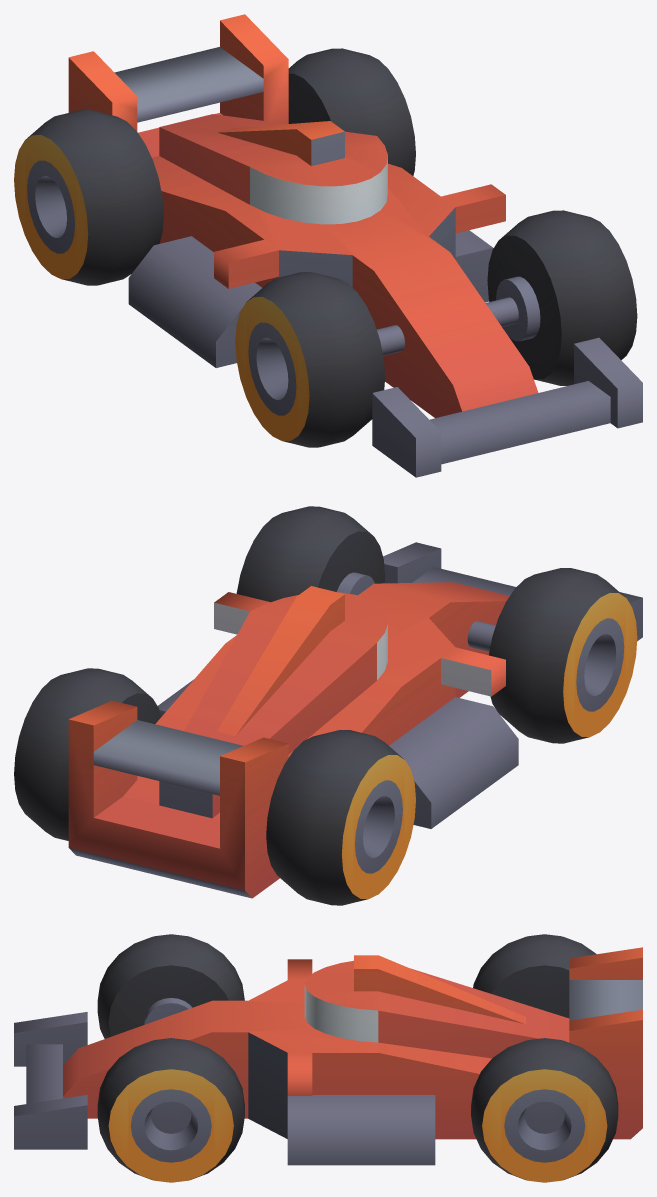
File: race.glb
3 views of the same model, one above another, from view 1: azimuth 30°, elevation 25°; view 2: azimuth 150°, elevation 25°; view 3: azimuth 270°, elevation 25° (orthographic). The views are drawn at different scales.
Parts seen in each view (by area): view 1: body; view 2: body; view 3: body.
Part boxes in pixels (x1,y1,x2,y2): body: [14, 14, 642, 477]; body: [14, 506, 642, 905]; body: [14, 934, 642, 1182].
Bounding box in the file's own units: 1.3 × 0.7325 × 2.56.
Materials: 1 (1 with a texture image).
